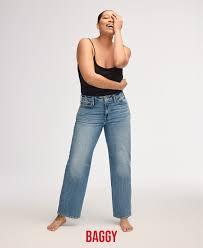jeans: (54, 92, 137, 221)
